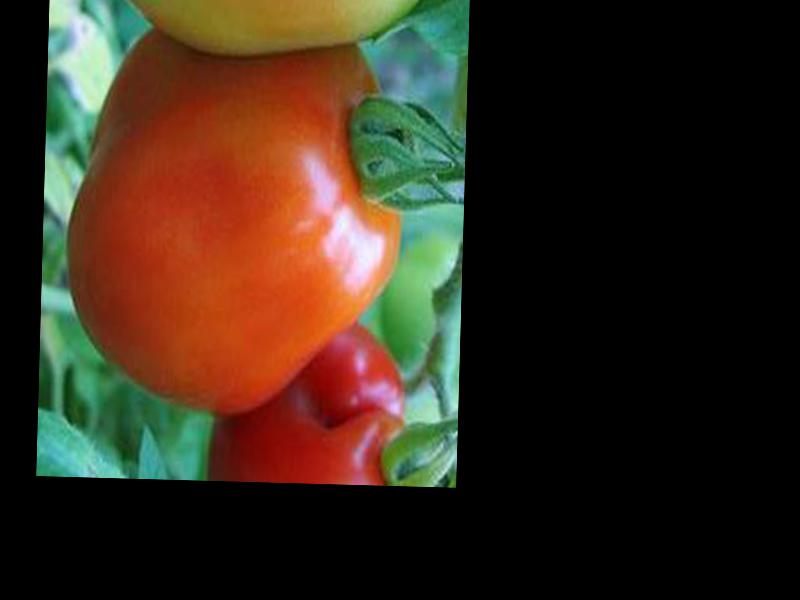Tomato: (63, 44, 405, 419)
